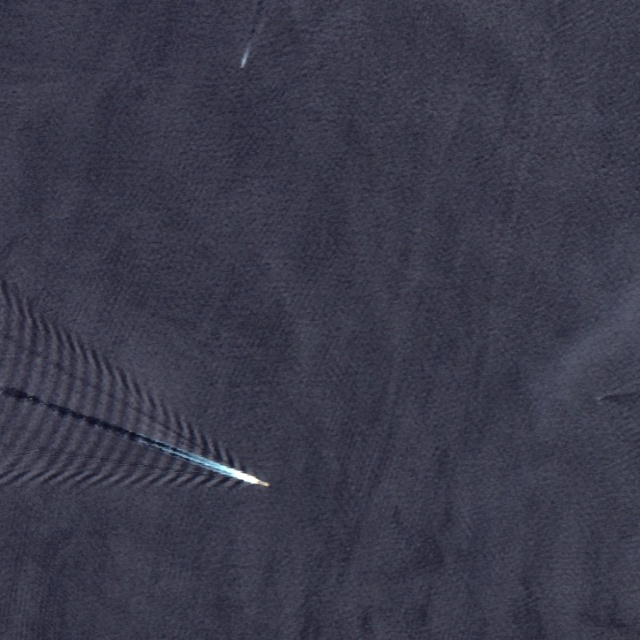wake: (20, 334, 300, 552)
